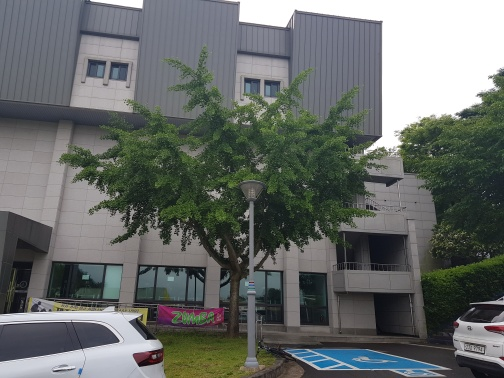Gym: (12, 5, 436, 326), (326, 135, 429, 331)
